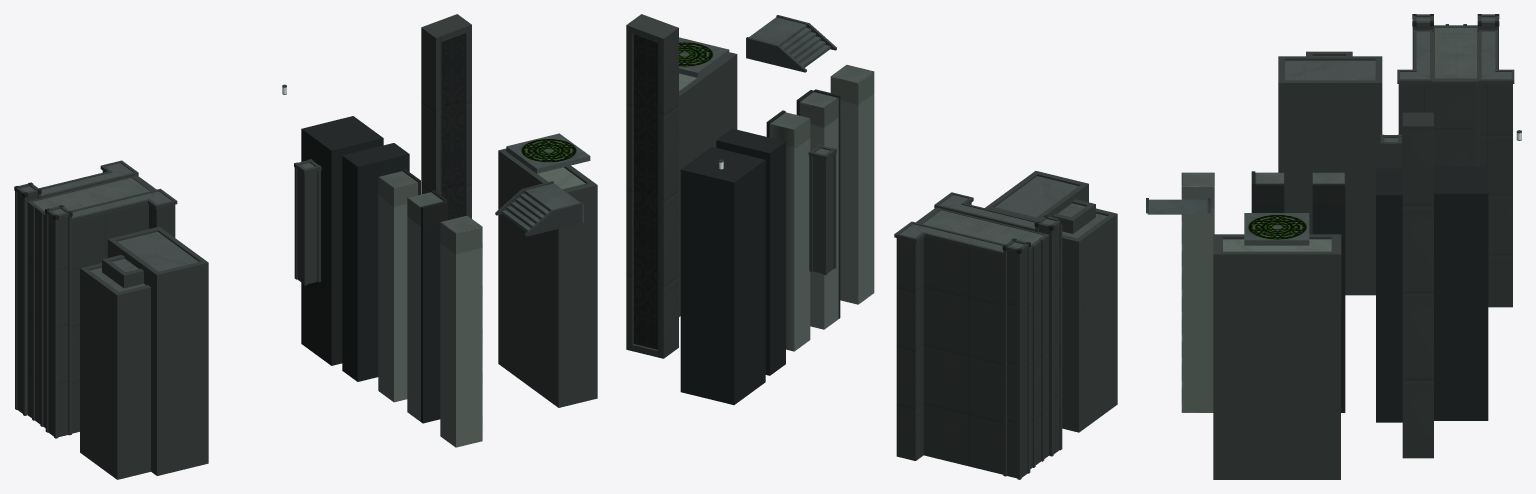
The model's file is Map.fbx.
3 renders of one model, left to right at view 1: azimuth 30°, elevation 25°; view 2: azimuth 150°, elevation 25°; view 3: azimuth 270°, elevation 25°, orthographic. The views are drawn at different scales.
Visible parts, largest first — view 1: Object299, Object300, Object301, Object302, Object296, Object305, Object297, Object303, Object304, Object298, Object291, Object295; view 2: Object300, Object297, Object296, Object299, Object302, Object304, Object305, Object301, Object303, Object298, Object291, Object295; view 3: Object301, Object299, Object300, Object297, Object296, Object302, Object305, Object304, Object295, Object303, Object291, Object298.
Boxes of the visible parts, bbox=[...] form: Object299: bbox=[80, 226, 208, 479]; Object300: bbox=[14, 160, 177, 438]; Object301: bbox=[498, 148, 597, 407]; Object302: bbox=[440, 215, 482, 447]; Object296: bbox=[421, 14, 471, 219]; Object305: bbox=[342, 143, 409, 381]; Object297: bbox=[301, 116, 383, 365]; Object303: bbox=[407, 190, 447, 423]; Object304: bbox=[378, 169, 420, 402]; Object298: bbox=[294, 159, 321, 285]; Object291: bbox=[495, 181, 583, 236]; Object295: bbox=[506, 133, 590, 173]; Object300: bbox=[894, 192, 1062, 479]; Object297: bbox=[680, 147, 765, 404]; Object296: bbox=[626, 14, 678, 358]; Object299: bbox=[985, 171, 1117, 432]; Object302: bbox=[830, 65, 874, 304]; Object304: bbox=[766, 110, 810, 351]; Object305: bbox=[716, 128, 785, 375]; Object301: bbox=[679, 52, 737, 316]; Object303: bbox=[796, 89, 840, 329]; Object298: bbox=[808, 144, 836, 275]; Object291: bbox=[746, 15, 836, 72]; Object295: bbox=[679, 37, 729, 77]; Object301: bbox=[1213, 234, 1341, 479]; Object299: bbox=[1278, 51, 1382, 295]; Object300: bbox=[1397, 14, 1514, 307]; Object297: bbox=[1434, 166, 1488, 420]; Object296: bbox=[1402, 112, 1433, 458]; Object302: bbox=[1181, 172, 1214, 412]; Object305: bbox=[1376, 168, 1402, 422]; Object304: bbox=[1312, 172, 1345, 412]; Object295: bbox=[1244, 213, 1309, 245]; Object303: bbox=[1251, 171, 1284, 212]; Object291: bbox=[1146, 198, 1210, 214]; Object298: bbox=[1380, 134, 1401, 168].
Size of the model in its own units: 4705 by 3131 by 3183.
